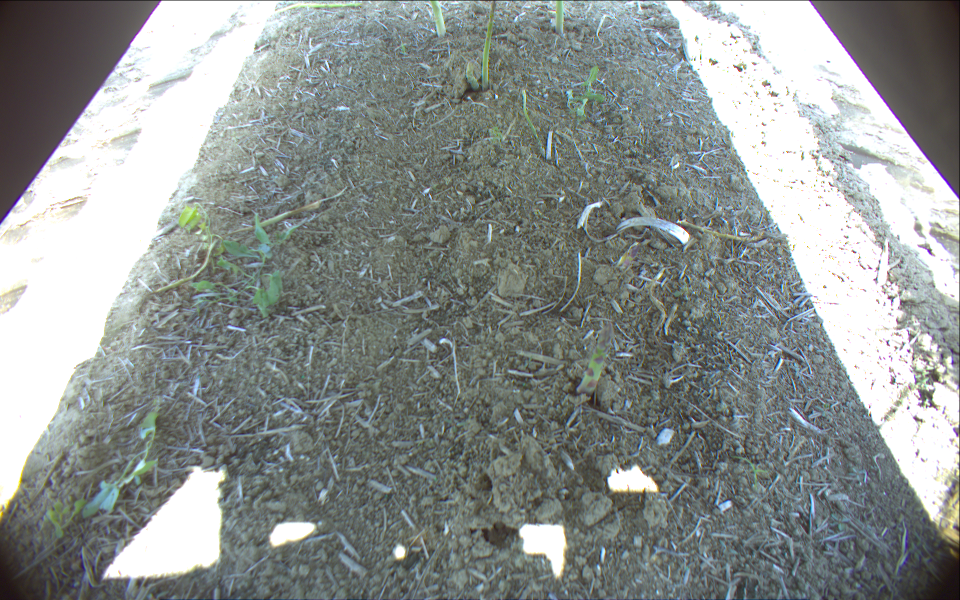aspa: (155, 190, 346, 295), (243, 1, 365, 28), (680, 220, 769, 240), (522, 89, 547, 160), (576, 344, 606, 397), (483, 1, 496, 89), (429, 1, 447, 39), (465, 62, 479, 89), (555, 1, 566, 34)
